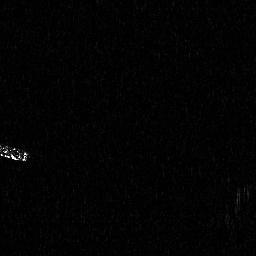ship: (1, 142, 31, 164)
